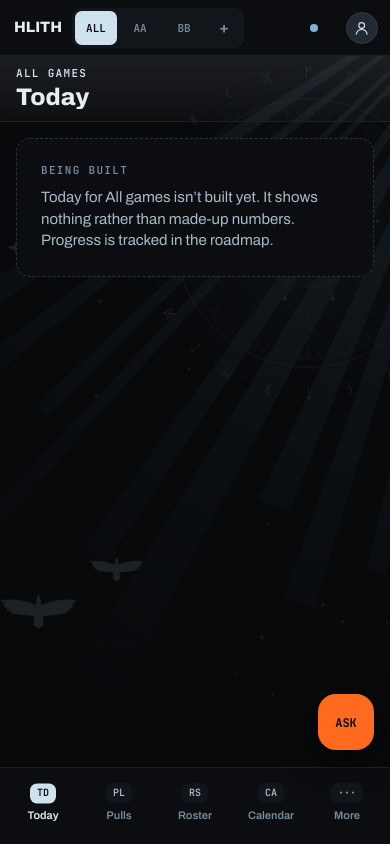
Test: Shell › phone top bar: game switcher, sync dot, Account; the ASK button opens the Assistant
Click the button "BB". click: {"x": 184, "y": 28}
box: [163,10,205,44]
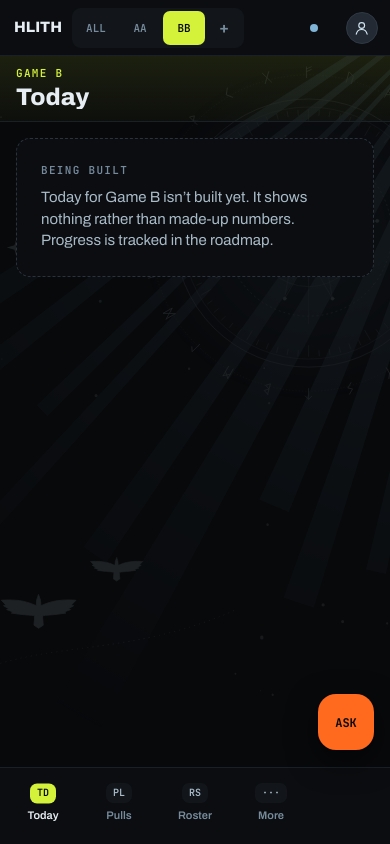
Click the button with aria-label "Assistant". click: {"x": 346, "y": 722}
box: [318,694,374,750]
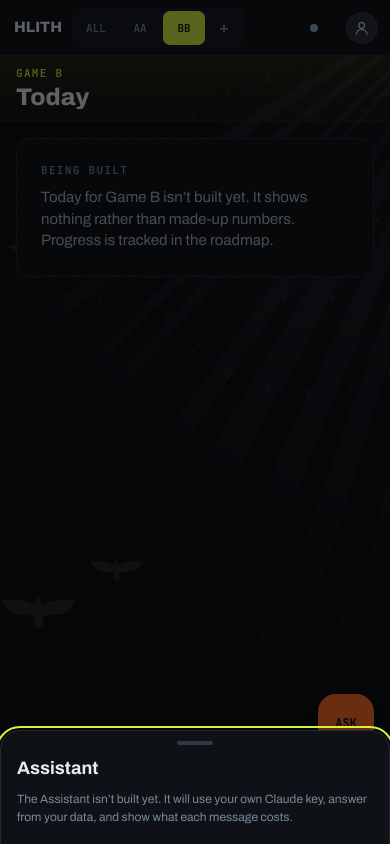
Check: the dialog "Assistant" is shown, box [0,730,389,843]
